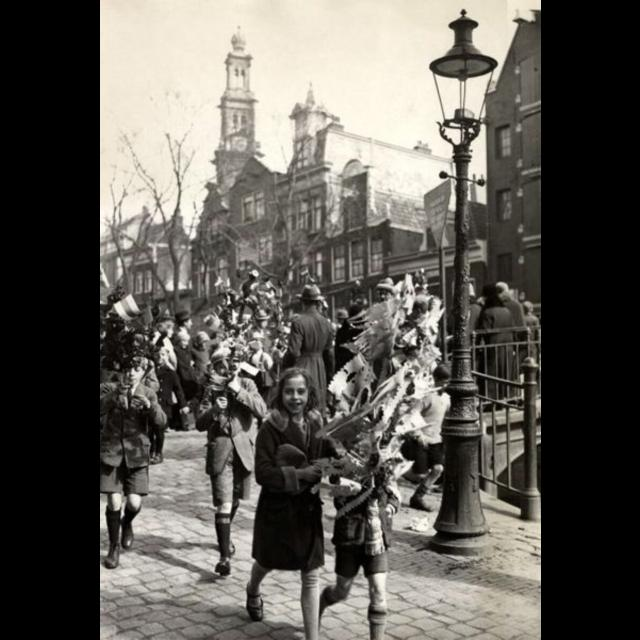Street-Lamp: (416, 2, 506, 556)
